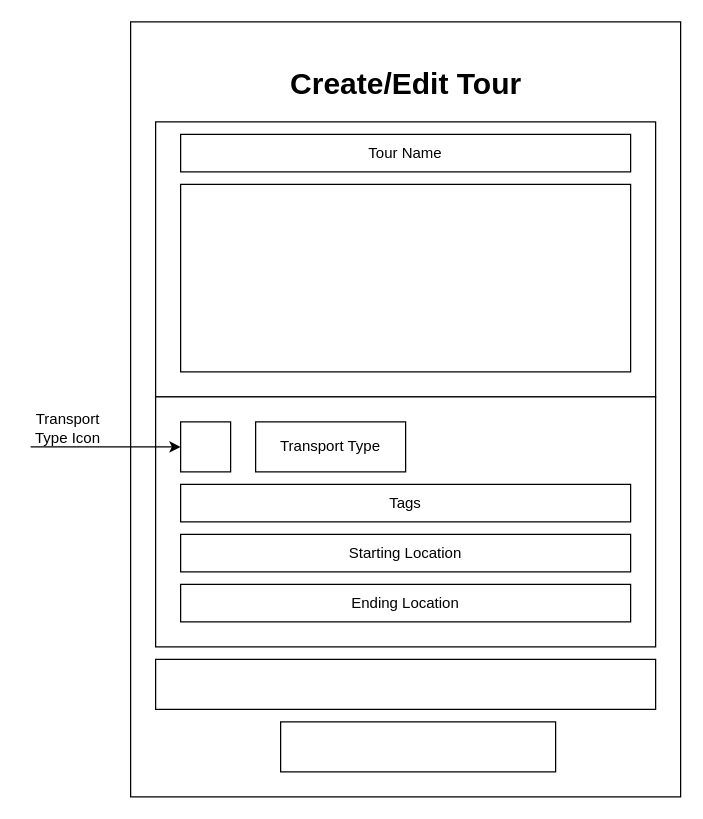
Some shapes in this 703 by 819 pixel diagram are drawn without their labels. Each missing label, with the centre of its shape:
"Create/Edit Tour (Button)" goes at point 405,683.
"Delete Tour (Button" goes at point 417,746.
"Tour Description" goes at point 405,277.
